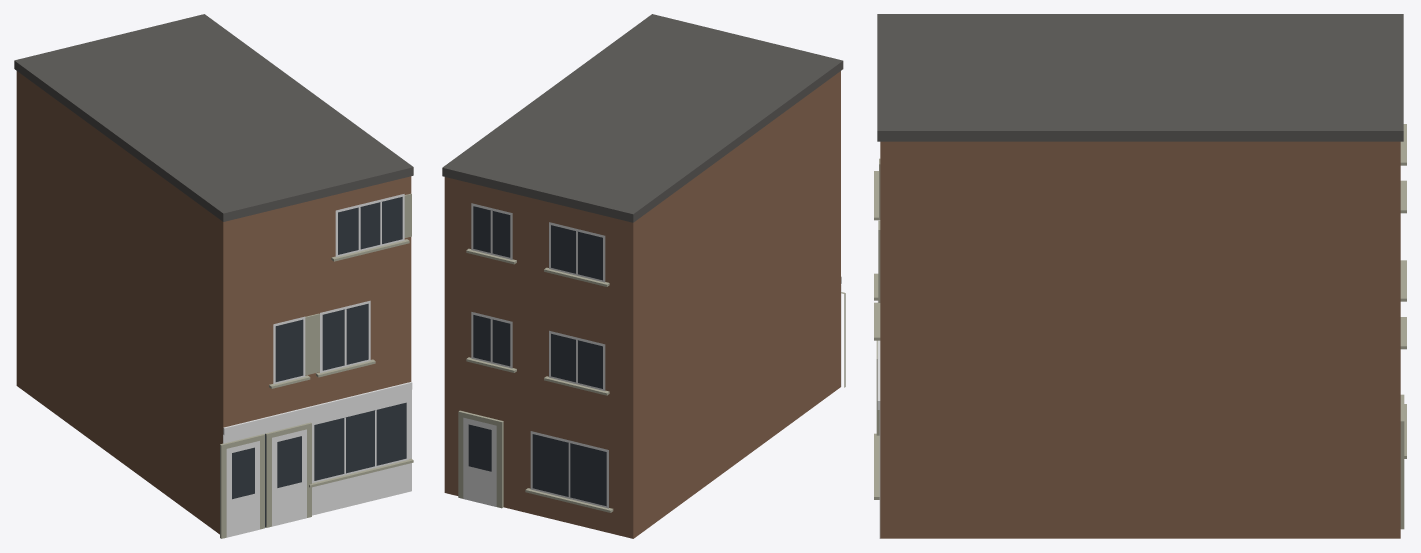
Rendered from nw-aw-lomond__red__3__flat__long__solid.glb.
The picture shows the model from 3 angles, left to right: view 1: azimuth 30°, elevation 25°; view 2: azimuth 150°, elevation 25°; view 3: azimuth 270°, elevation 25°; orthographic projection. The views are drawn at different scales.
Parts seen in each view (by area): view 1: nw-aw-lomond__red__3__flat__long__solid; view 2: nw-aw-lomond__red__3__flat__long__solid; view 3: nw-aw-lomond__red__3__flat__long__solid.
Boxes of the visible parts, <box> form: nw-aw-lomond__red__3__flat__long__solid: <box>14,14,413,538</box>; nw-aw-lomond__red__3__flat__long__solid: <box>442,14,845,538</box>; nw-aw-lomond__red__3__flat__long__solid: <box>874,14,1406,538</box>.
Bounding box in the file's own units: 5.21 × 8.4 × 9.93.
